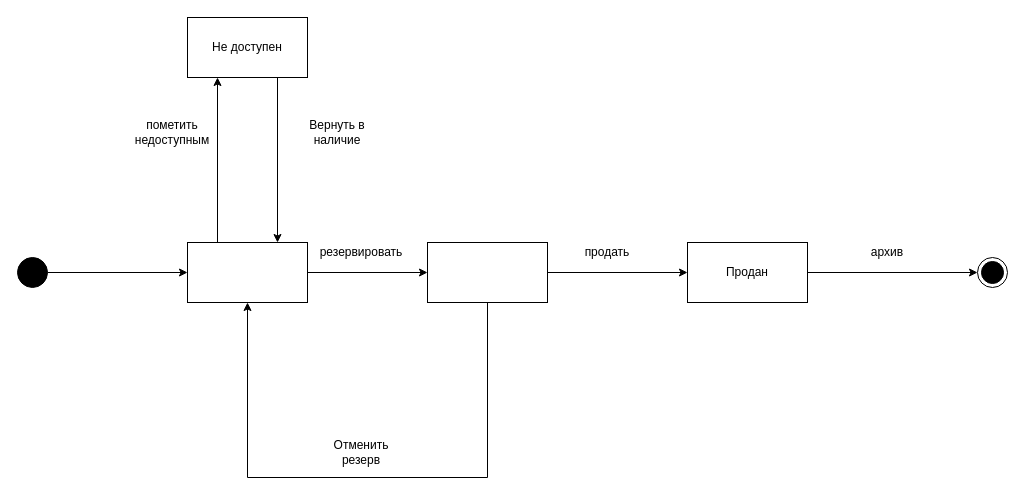
The diagram is 1025 pixels wide and 503 high, and some of its shapes have lost their labels. The shapes that lost their labels are listed below. From the top down, each one's box as (x1, y1, x2, y2) in pixels, then its label:
(186, 242, 308, 302): В наличии
(426, 242, 548, 302): Забронирован
